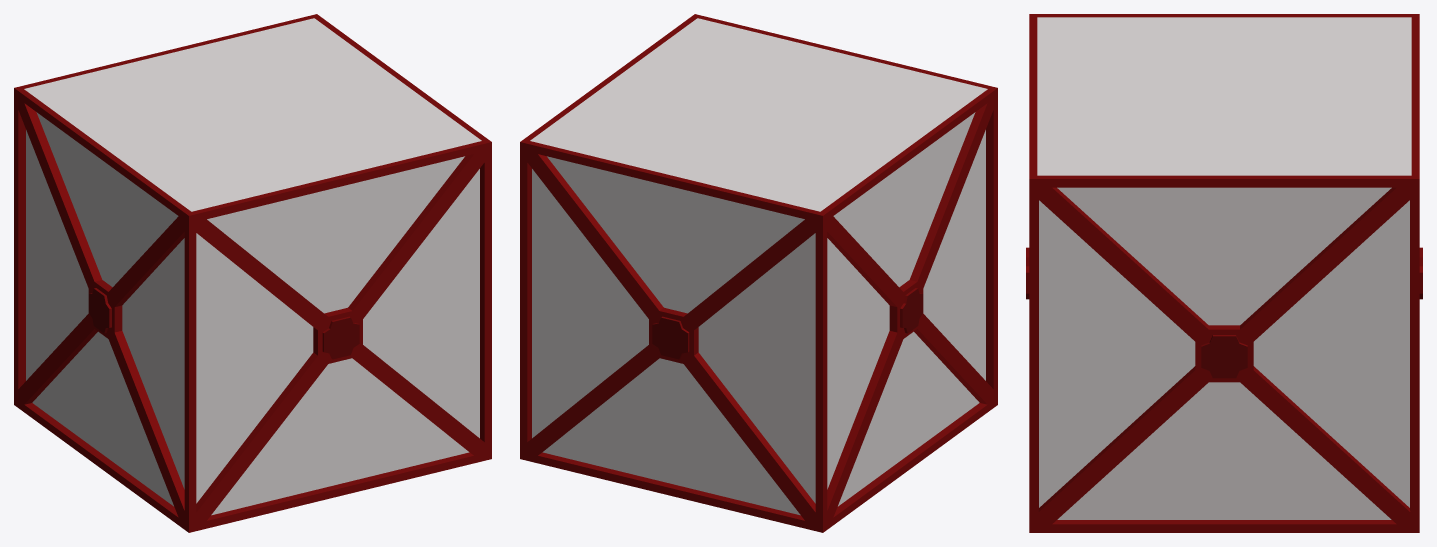
File: scaffolding.fbx
3 views of the same model, side by side, from view 1: azimuth 30°, elevation 25°; view 2: azimuth 150°, elevation 25°; view 3: azimuth 270°, elevation 25° (orthographic). The views are drawn at different scales.
Parts seen in each view (by area): view 1: Scaffolding; view 2: Scaffolding; view 3: Scaffolding.
Part boxes in pixels (x1,y1,x2,y2): Scaffolding: (14,14,491,532); Scaffolding: (520,14,997,532); Scaffolding: (1026,14,1422,532).
Size of the model in its own units: 2033 by 2000 by 2033.
